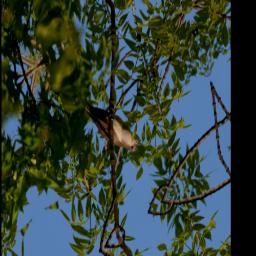Cuckoo: (81, 74, 141, 175)
